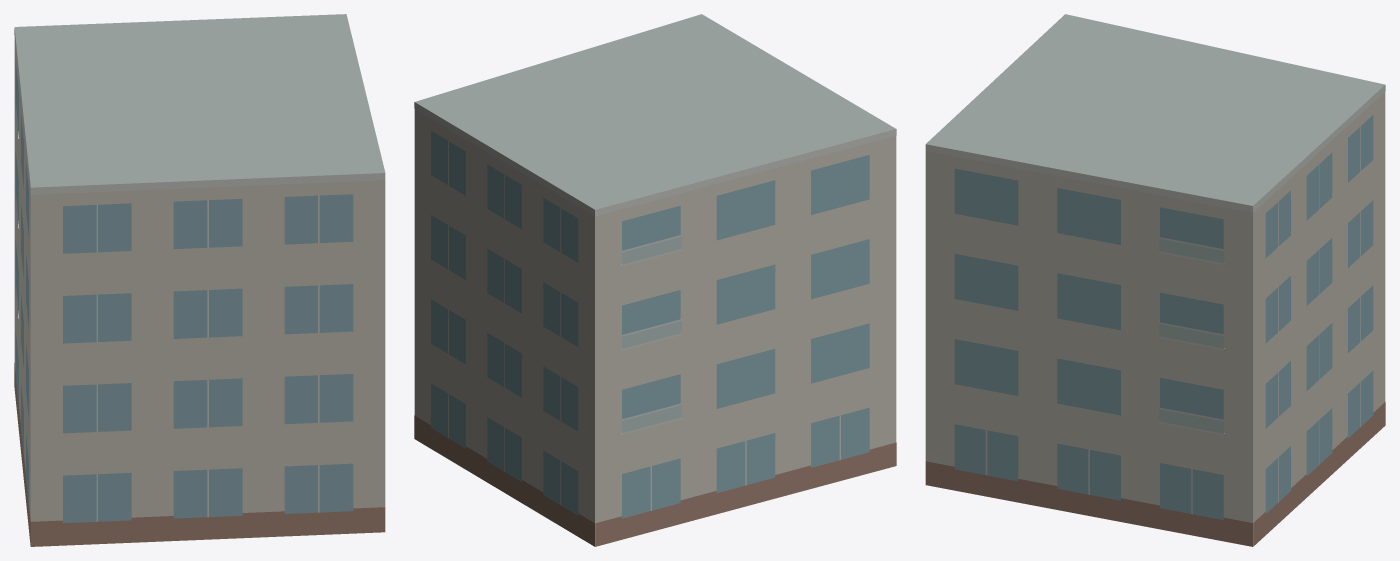
The model's file is survey-upis-33006264.glb.
The picture shows the model from 3 angles, left to right: view 1: azimuth 30°, elevation 25°; view 2: azimuth 150°, elevation 25°; view 3: azimuth 270°, elevation 25°; orthographic projection. The views are drawn at different scales.
Visible parts, largest first — view 1: survey-upis-33006264.tmp; view 2: survey-upis-33006264.tmp; view 3: survey-upis-33006264.tmp.
Boxes of the visible parts, <box> form: survey-upis-33006264.tmp: <box>14,14,385,546</box>; survey-upis-33006264.tmp: <box>414,14,896,546</box>; survey-upis-33006264.tmp: <box>925,14,1385,546</box>.
Size of the model in its own units: 14.99 by 12.4 by 15.17.
